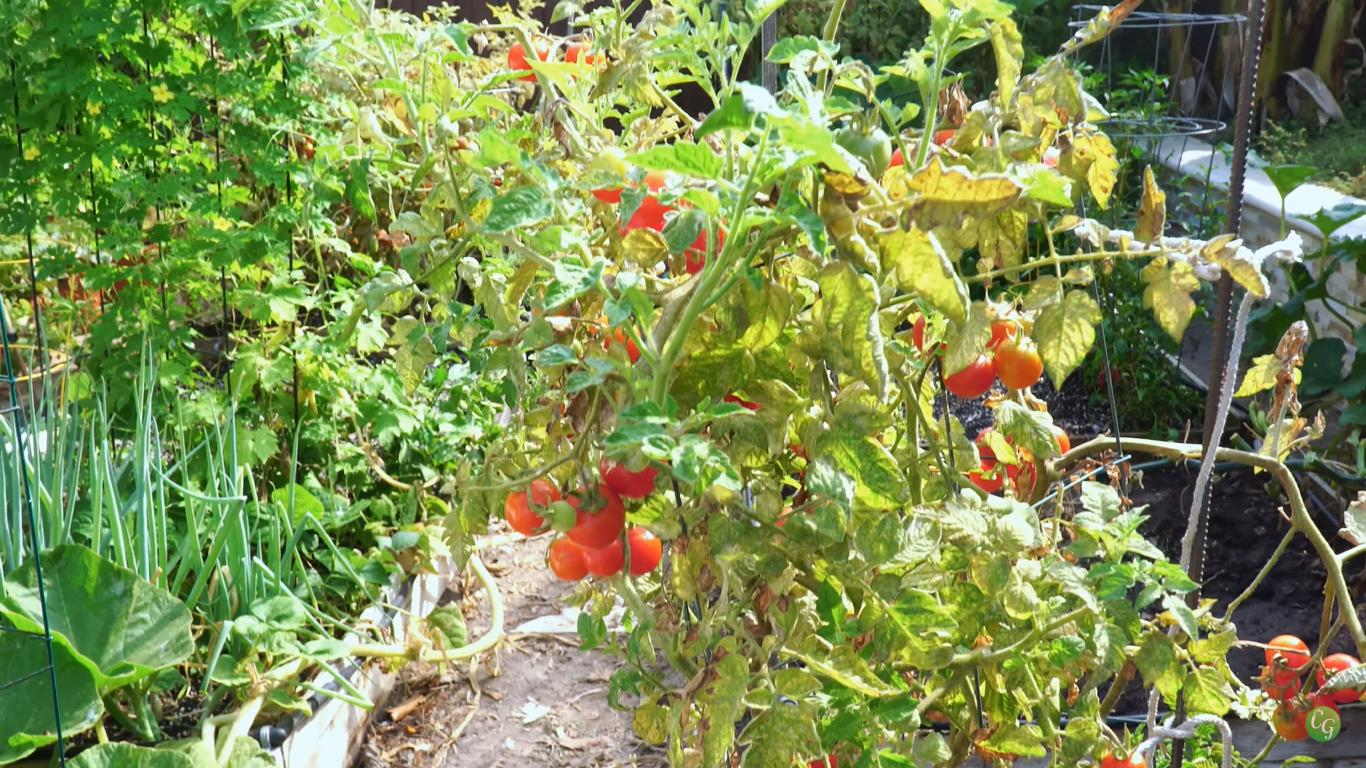Spider Mites: (870, 218, 976, 332), (878, 151, 1023, 234), (816, 258, 893, 405), (1016, 271, 1102, 397), (816, 410, 915, 514), (854, 586, 963, 672), (779, 631, 905, 701), (733, 686, 824, 768), (693, 652, 751, 768), (668, 331, 755, 406), (1197, 228, 1275, 303), (1138, 255, 1203, 343), (850, 511, 945, 567), (939, 297, 994, 382), (746, 374, 800, 458), (385, 313, 438, 398), (1071, 127, 1122, 214), (995, 396, 1065, 459), (669, 531, 724, 604), (983, 15, 1023, 115), (744, 280, 791, 354), (1132, 155, 1169, 245), (707, 412, 770, 455), (1180, 665, 1232, 717), (981, 724, 1049, 760), (441, 509, 477, 576), (620, 224, 670, 271), (940, 508, 988, 551), (1092, 622, 1129, 677), (1060, 715, 1104, 761), (994, 510, 1039, 554), (1187, 626, 1238, 664), (971, 551, 1012, 598), (631, 701, 672, 746), (774, 668, 826, 701), (707, 511, 743, 557), (995, 205, 1028, 251), (1004, 580, 1038, 622), (814, 503, 848, 543), (950, 430, 982, 472), (753, 486, 785, 523)
